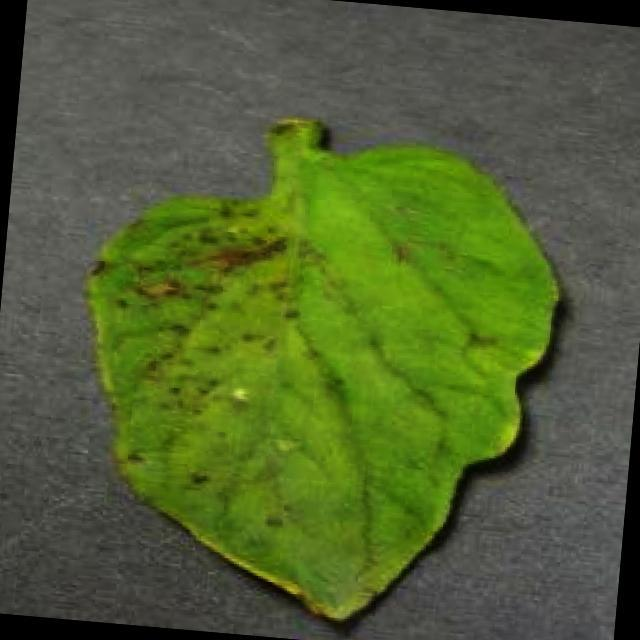Tomato bacterial spot leaf: (46, 89, 588, 640)
